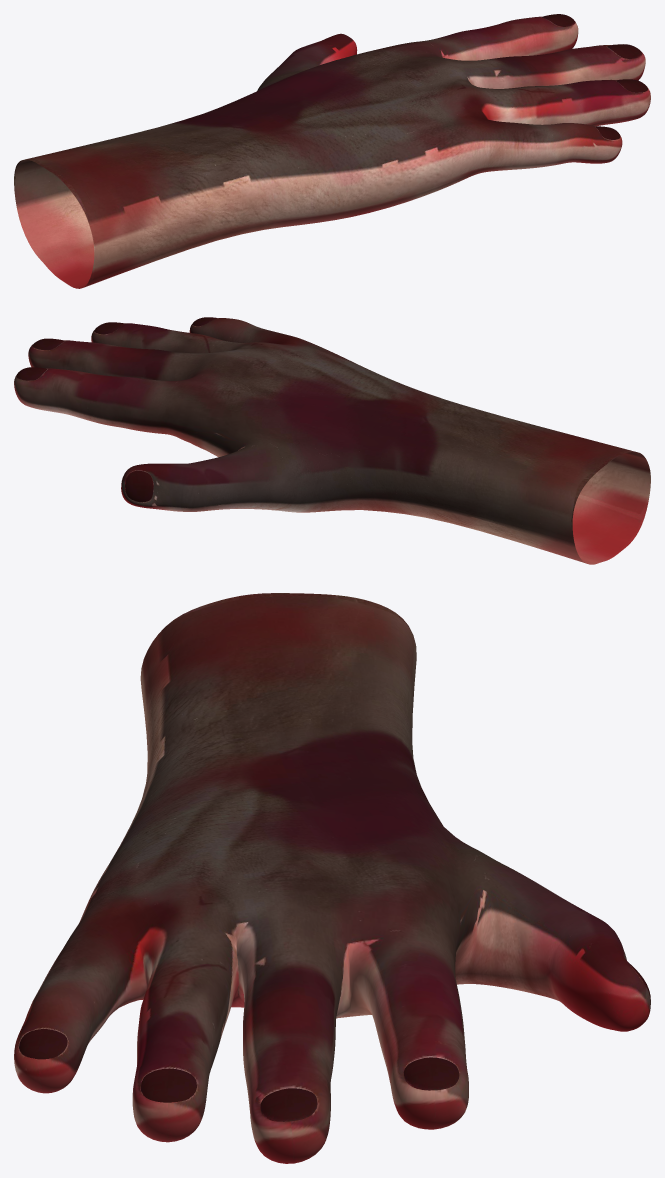
The model's file is hand.fbx.
3 renders of one model, top to bottom at view 1: azimuth 30°, elevation 25°; view 2: azimuth 150°, elevation 25°; view 3: azimuth 270°, elevation 25°, orthographic. The views are drawn at different scales.
Visible parts, largest first — view 1: Cube.000; view 2: Cube.000; view 3: Cube.000.
Part boxes in pixels (x1,y1,x2,y2): Cube.000: (14,14,650,288); Cube.000: (14,317,650,564); Cube.000: (14,593,650,1163).
Size of the model in its own units: 25.68 by 4.73 by 13.94.
Materials: 1 (1 with a texture image).
